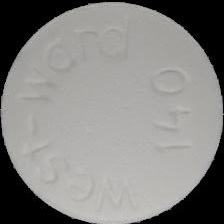68645-230: (0, 0, 224, 224)
